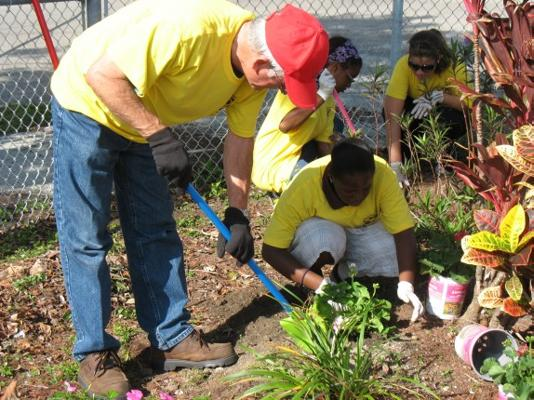person: (49, 1, 330, 397)
